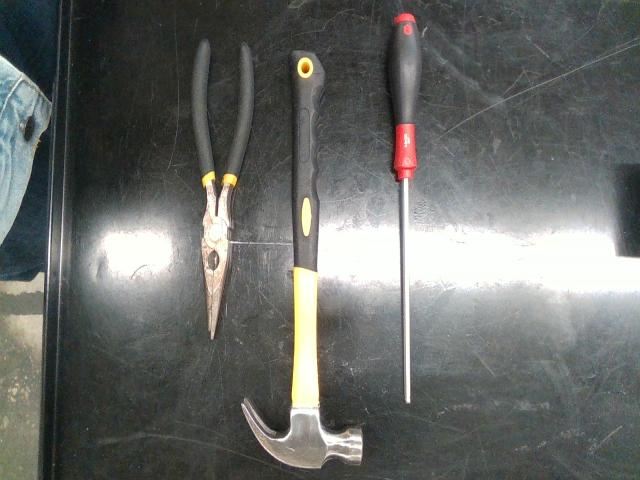Hammer: (241, 50, 362, 468)
Needle-nose pliers: (191, 40, 254, 338)
Screwdriver: (389, 13, 421, 403)
